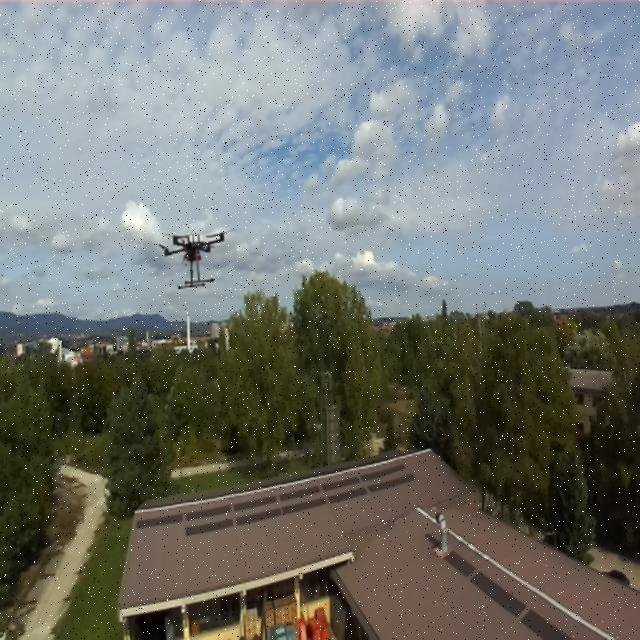UAV: (146, 220, 238, 292)
